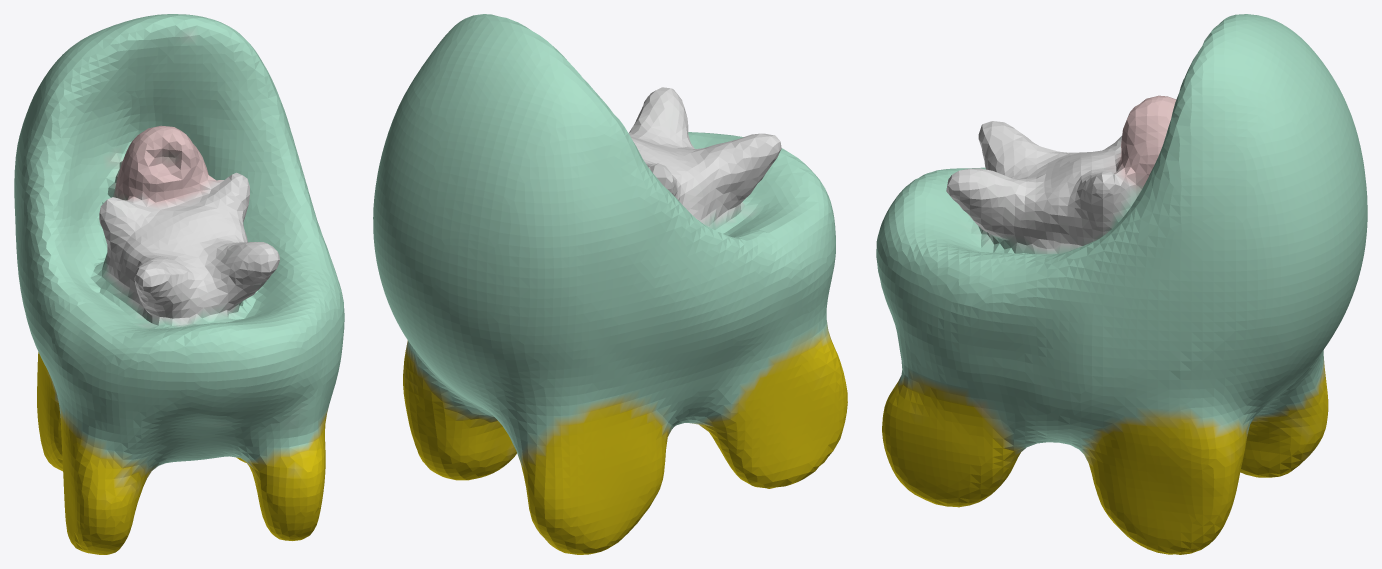
The model's file is Baby.glb.
The picture shows the model from 3 angles, left to right: view 1: azimuth 30°, elevation 25°; view 2: azimuth 150°, elevation 25°; view 3: azimuth 270°, elevation 25°; orthographic projection. The views are drawn at different scales.
Parts seen in each view (by area): view 1: Baby; view 2: Baby; view 3: Baby.
Boxes of the visible parts, bbox=[...] form: Baby: bbox=[14, 14, 344, 554]; Baby: bbox=[373, 14, 847, 554]; Baby: bbox=[876, 14, 1367, 554].
Bounding box in the file's own units: 0.869 × 1.22 × 1.1.
